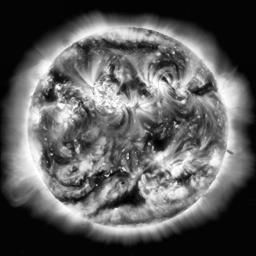solar flares: (79, 74, 118, 111), (137, 172, 178, 206), (135, 66, 169, 98), (153, 150, 183, 179), (58, 102, 82, 130), (123, 97, 149, 116), (210, 150, 220, 167)
sunspots: (91, 37, 153, 54), (110, 186, 142, 206), (160, 56, 185, 77), (149, 128, 164, 153), (123, 80, 145, 96), (48, 70, 67, 87), (191, 84, 215, 95), (107, 64, 119, 84), (66, 139, 92, 148), (93, 171, 111, 183), (179, 174, 194, 186), (45, 91, 59, 103), (42, 154, 53, 166)
